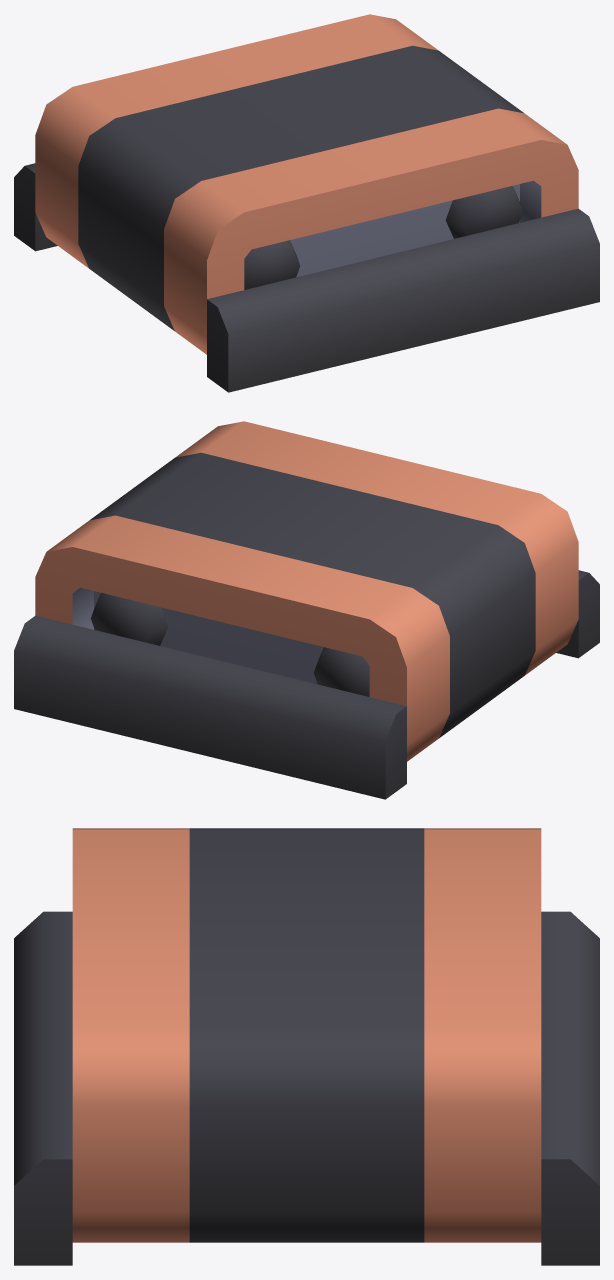
Rendered from conveyor-stripe-sides.obj.
The picture shows the model from 3 angles, top to bottom: view 1: azimuth 30°, elevation 25°; view 2: azimuth 150°, elevation 25°; view 3: azimuth 270°, elevation 25°; orthographic projection. The views are drawn at different scales.
Visible parts, largest first — view 1: conveyor-stripe-sides; view 2: conveyor-stripe-sides; view 3: conveyor-stripe-sides.
Boxes of the visible parts, x1,y1,x2,y2 form: conveyor-stripe-sides: [14, 14, 599, 392]; conveyor-stripe-sides: [14, 421, 599, 799]; conveyor-stripe-sides: [14, 828, 599, 1265].
Bounding box in the file's own units: 1 × 0.4 × 1.
